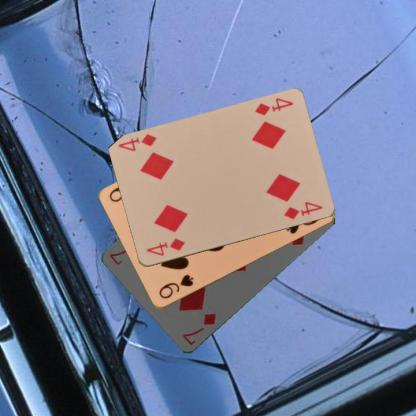4d: (143, 235, 186, 258), (252, 96, 294, 118)
7d: (180, 310, 218, 347)
9s: (156, 272, 195, 301)
